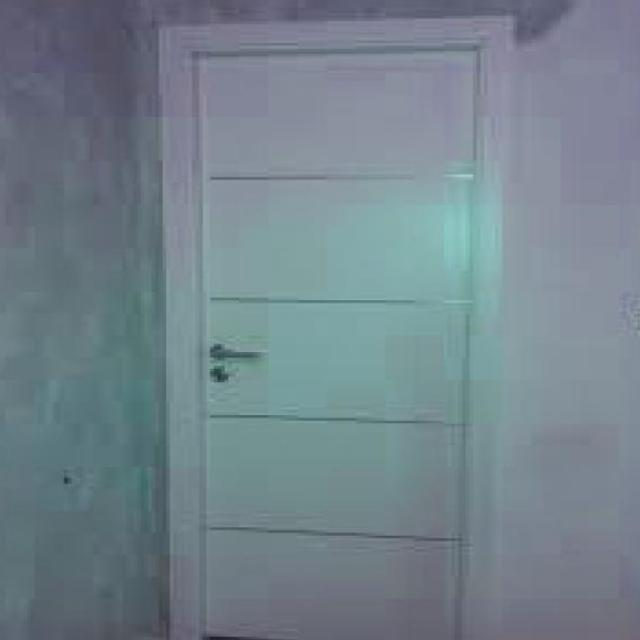Door: (187, 35, 484, 638)
